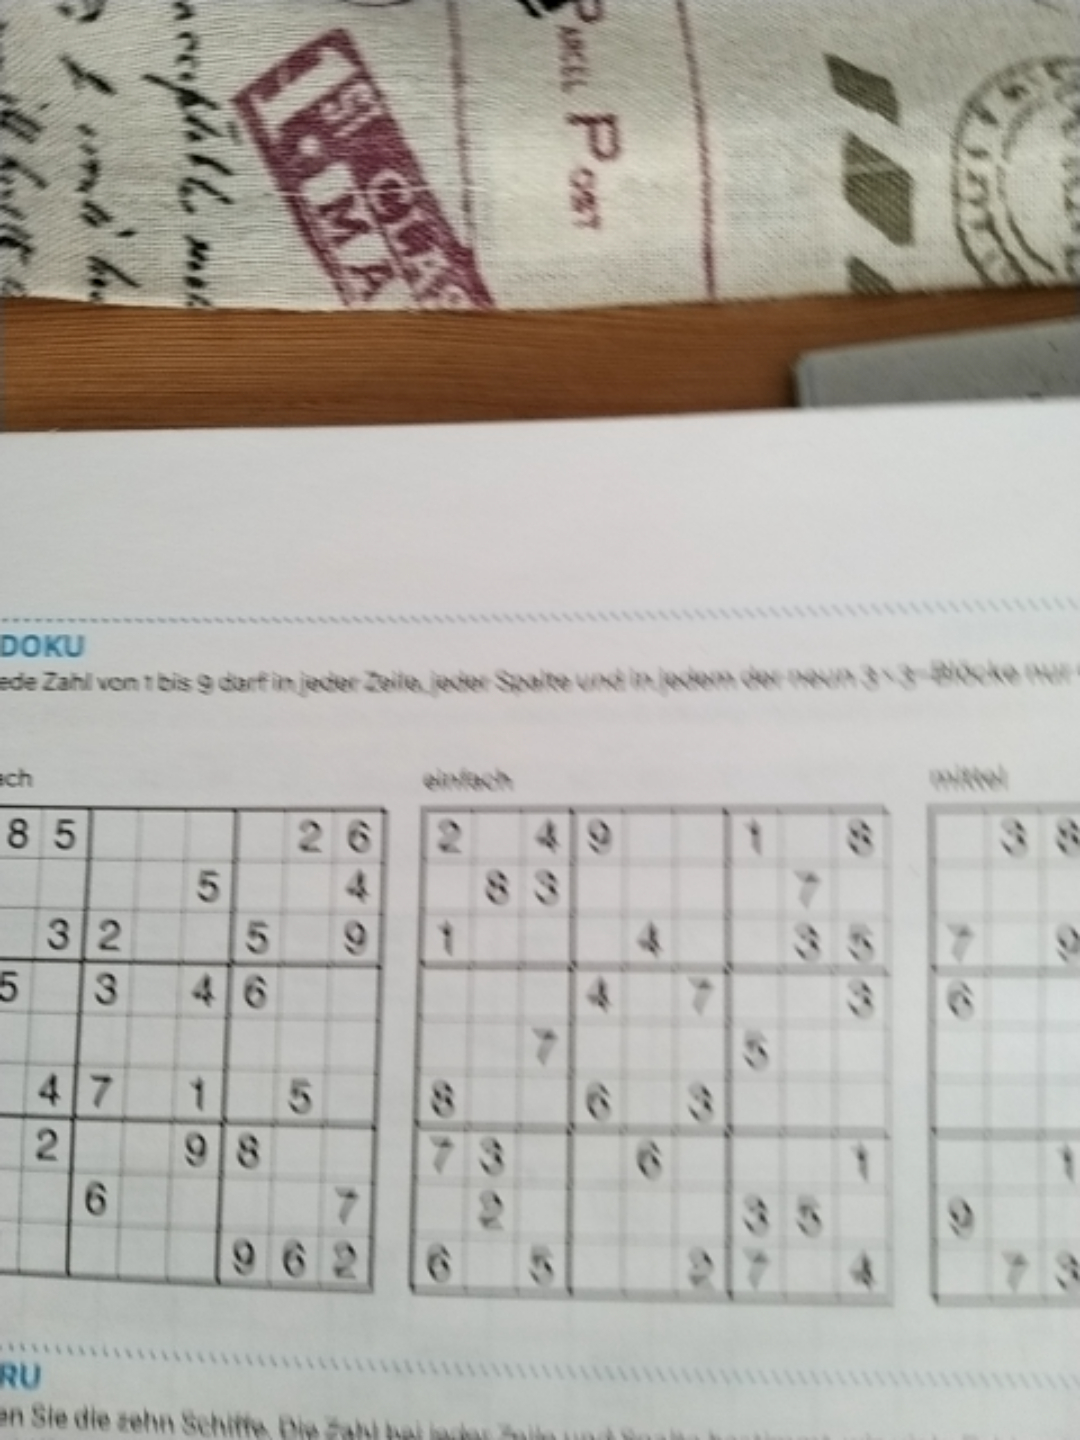sudoku: (406, 804, 895, 1308)
